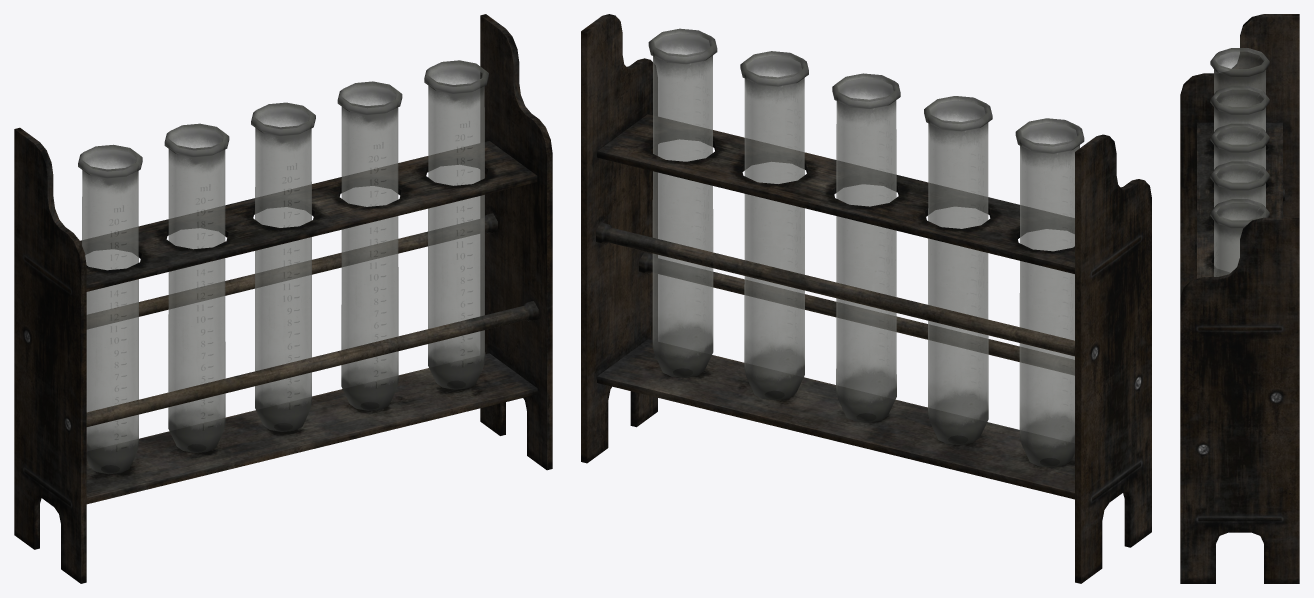
The model's file is test_tube_rack.glb.
3 views of the same model, side by side, from view 1: azimuth 30°, elevation 25°; view 2: azimuth 150°, elevation 25°; view 3: azimuth 270°, elevation 25° (orthographic). The views are drawn at different scales.
Visible parts, largest first — view 1: defaultMaterial.004, defaultMaterial.003, defaultMaterial, defaultMaterial.002; view 2: defaultMaterial.004, defaultMaterial.003, defaultMaterial, defaultMaterial.002; view 3: defaultMaterial.003, defaultMaterial.004, defaultMaterial.
Boxes of the visible parts, x1=… form: defaultMaterial.004: x1=78, y1=60, x2=488, y2=474; defaultMaterial.003: x1=14, y1=14, x2=552, y2=583; defaultMaterial: x1=80, y1=141, x2=537, y2=504; defaultMaterial.002: x1=86, y1=213, x2=538, y2=426; defaultMaterial.004: x1=648, y1=28, x2=1084, y2=467; defaultMaterial.003: x1=581, y1=14, x2=1151, y2=583; defaultMaterial: x1=597, y1=114, x2=1074, y2=499; defaultMaterial.002: x1=596, y1=222, x2=1074, y2=375; defaultMaterial.003: x1=1180, y1=14, x2=1299, y2=583; defaultMaterial.004: x1=1210, y1=48, x2=1269, y2=276; defaultMaterial: x1=1197, y1=122, x2=1282, y2=278.
Bounding box in the file's own units: 2.04 × 1.68 × 0.5.
Materials: 1 (1 with a texture image).
